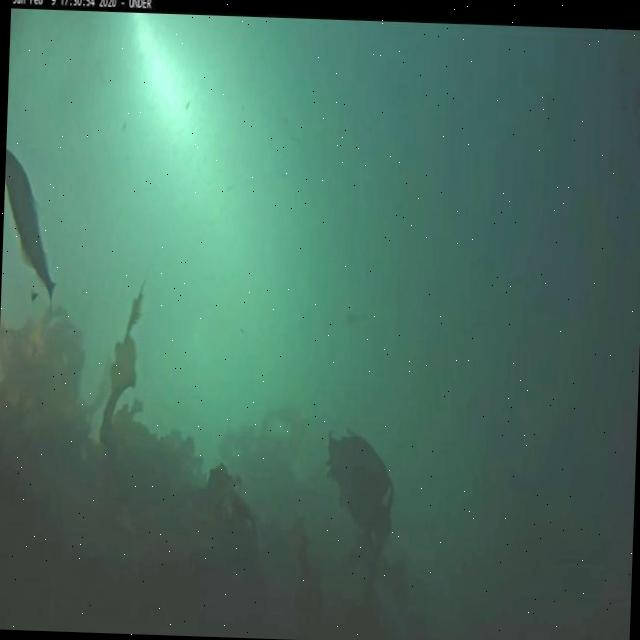fish: (0, 145, 64, 302)
